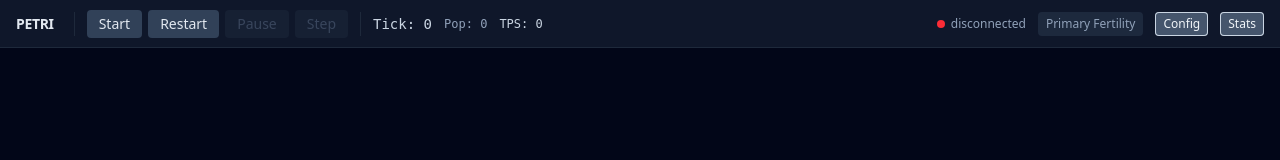
ControlBar › clears the restart error on the next restart attempt
Click the button with test id "control-restart" at (184, 24), box [148,10,219,38]
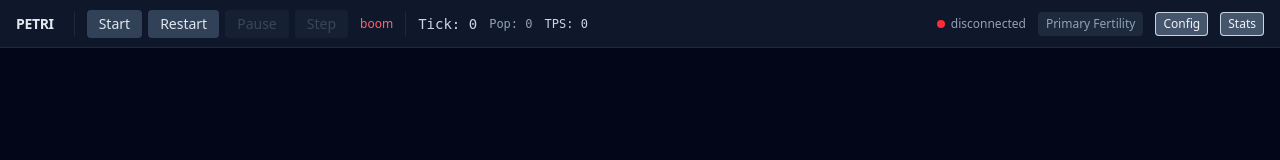
Expected: the text with test id "control-restart-error" reads "boom", [360,14,393,32]
Click the button with test id "control-restart" at (184, 24), box [148,10,219,38]
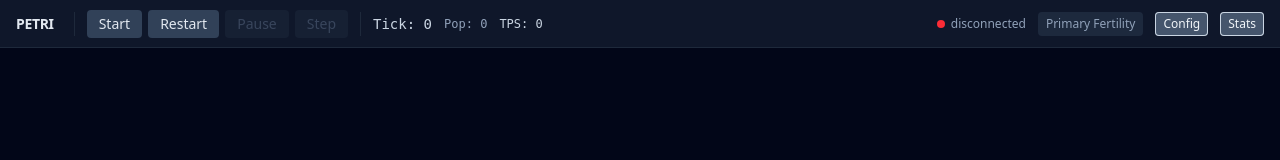
Expected: the text with test id "control-restart-error" is gone
